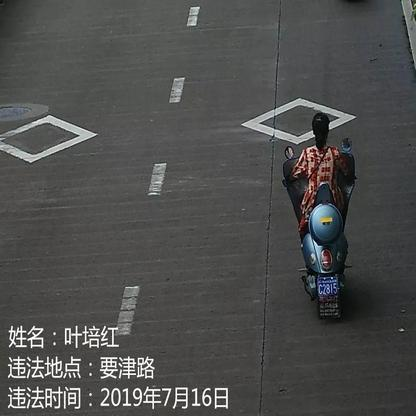target: (277, 111, 366, 319)
